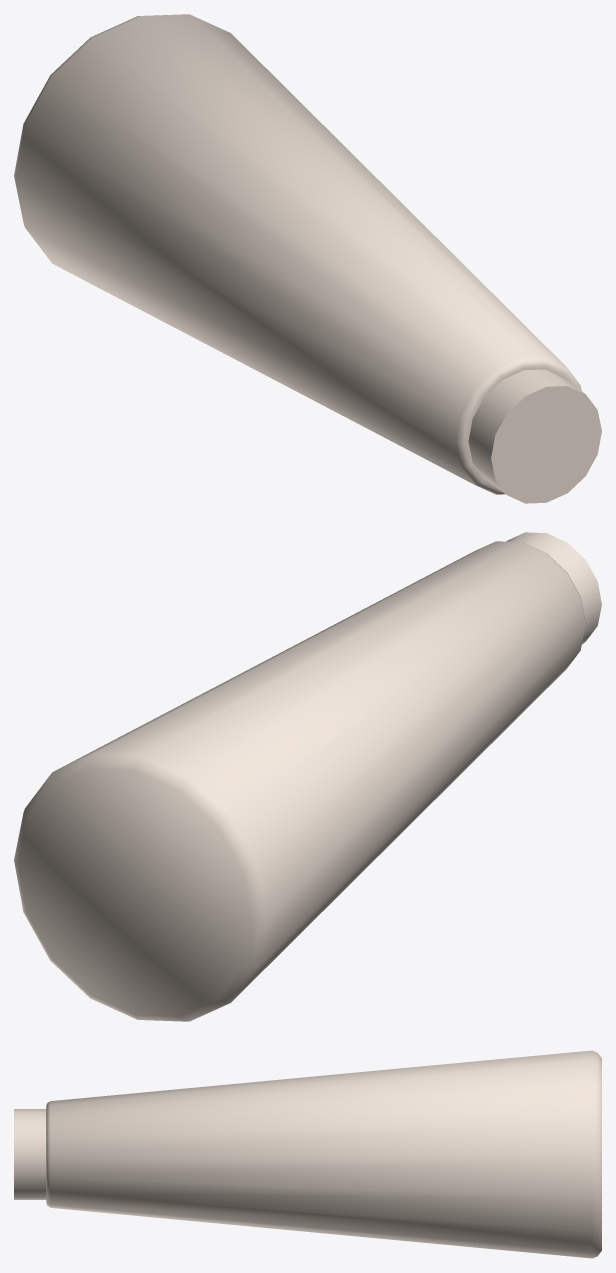
The model's file is MeshRobothorSprayBottleKramig_0_GeomSubset_0.obj.
3 views of the same model, one above another, from view 1: azimuth 30°, elevation 25°; view 2: azimuth 150°, elevation 25°; view 3: azimuth 270°, elevation 25° (orthographic). The views are drawn at different scales.
Visible parts, largest first — view 1: MeshRobothorSprayBottleKramig_0_GeomSubset_0; view 2: MeshRobothorSprayBottleKramig_0_GeomSubset_0; view 3: MeshRobothorSprayBottleKramig_0_GeomSubset_0.
Part boxes in pixels (x1,y1,x2,y2): MeshRobothorSprayBottleKramig_0_GeomSubset_0: [14, 14, 601, 503]; MeshRobothorSprayBottleKramig_0_GeomSubset_0: [14, 532, 601, 1021]; MeshRobothorSprayBottleKramig_0_GeomSubset_0: [14, 1050, 601, 1258].
Size of the model in its own units: 0.0709 by 0.0709 by 0.2002.
